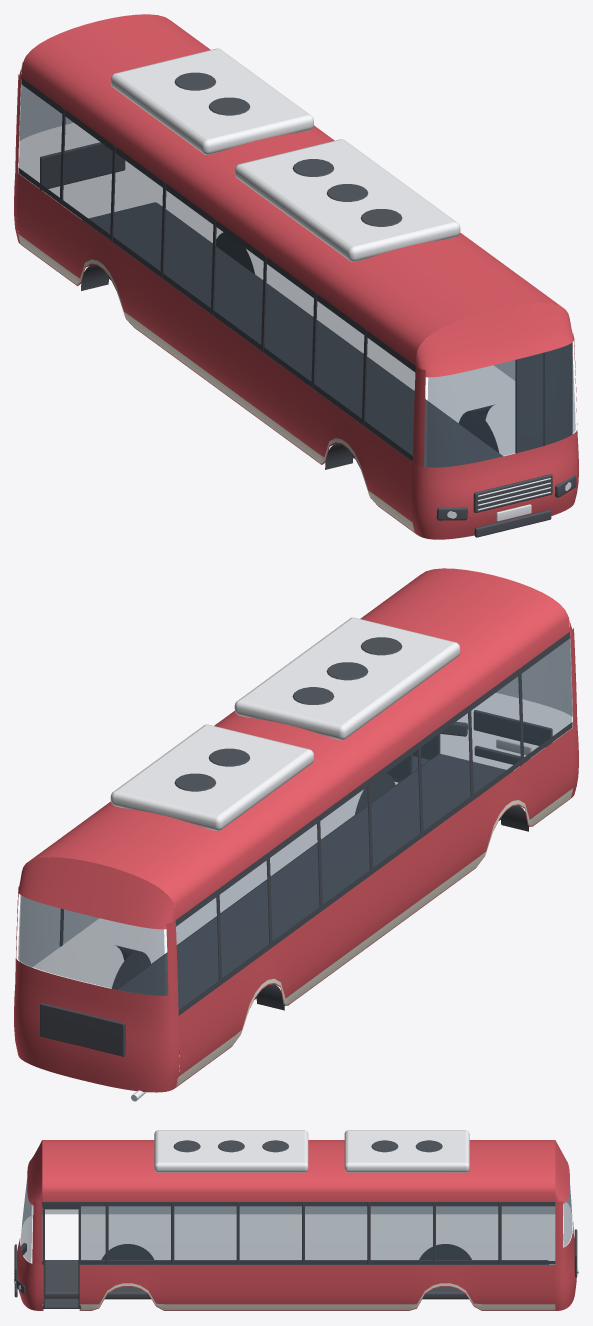
The model's file is bus_viking.glb.
The picture shows the model from 3 angles, top to bottom: view 1: azimuth 30°, elevation 25°; view 2: azimuth 150°, elevation 25°; view 3: azimuth 270°, elevation 25°; orthographic projection. The views are drawn at different scales.
Visible parts, largest first — view 1: PaintShell, CabinGlass, DarkTrim, RoofPod, AccentShell, ChromeTrim; view 2: PaintShell, CabinGlass, DarkTrim, RoofPod, AccentShell; view 3: PaintShell, CabinGlass, DarkTrim, RoofPod, AccentShell.
Boxes of the visible parts, x1,y1,x2,y2 form: PaintShell: [14, 14, 578, 539]; CabinGlass: [19, 84, 575, 466]; DarkTrim: [18, 72, 576, 537]; RoofPod: [110, 48, 460, 261]; AccentShell: [18, 234, 414, 532]; ChromeTrim: [447, 478, 571, 521]; PaintShell: [14, 568, 578, 1092]; CabinGlass: [18, 638, 572, 1009]; DarkTrim: [40, 632, 572, 1056]; RoofPod: [110, 617, 460, 830]; AccentShell: [176, 788, 573, 1086]; PaintShell: [17, 1140, 576, 1310]; CabinGlass: [21, 1179, 572, 1262]; DarkTrim: [14, 1140, 577, 1308]; RoofPod: [154, 1130, 469, 1172]; AccentShell: [42, 1283, 555, 1310].
Bounding box in the file's own units: 2.57 × 3.31 × 11.74.
